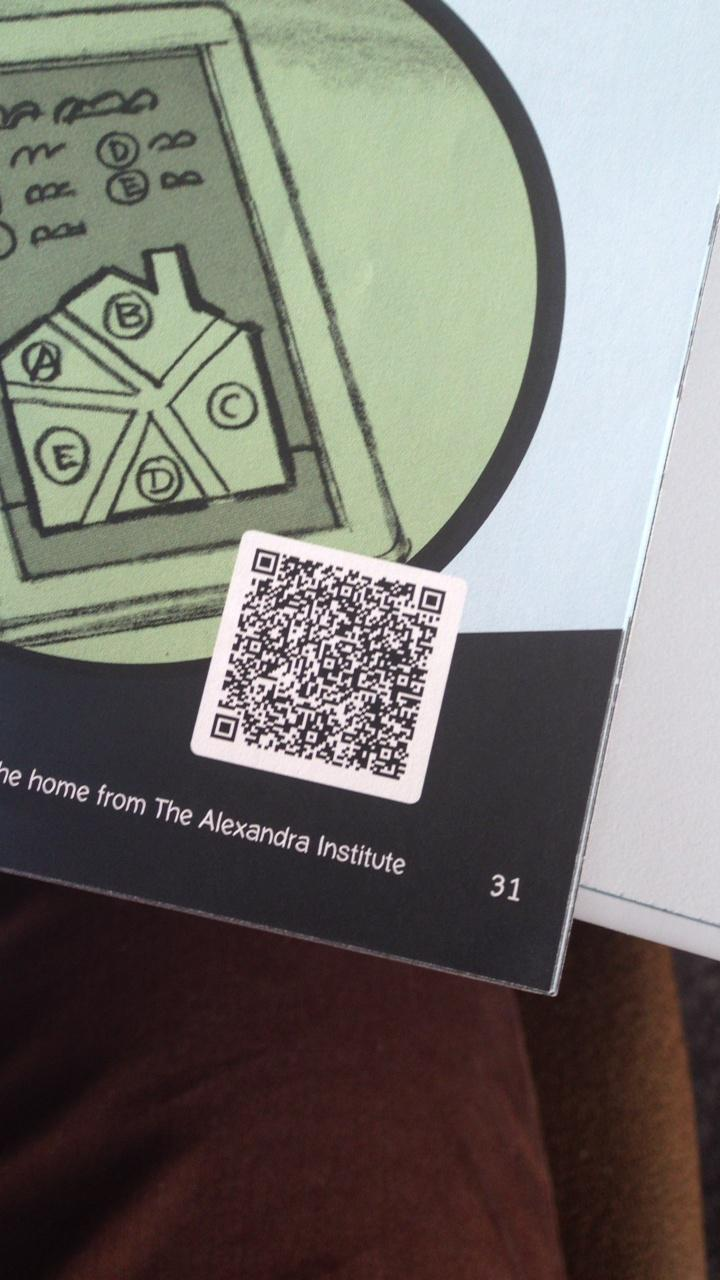Finder pattern: (208, 709, 243, 749), (414, 581, 449, 619), (248, 544, 282, 577)
